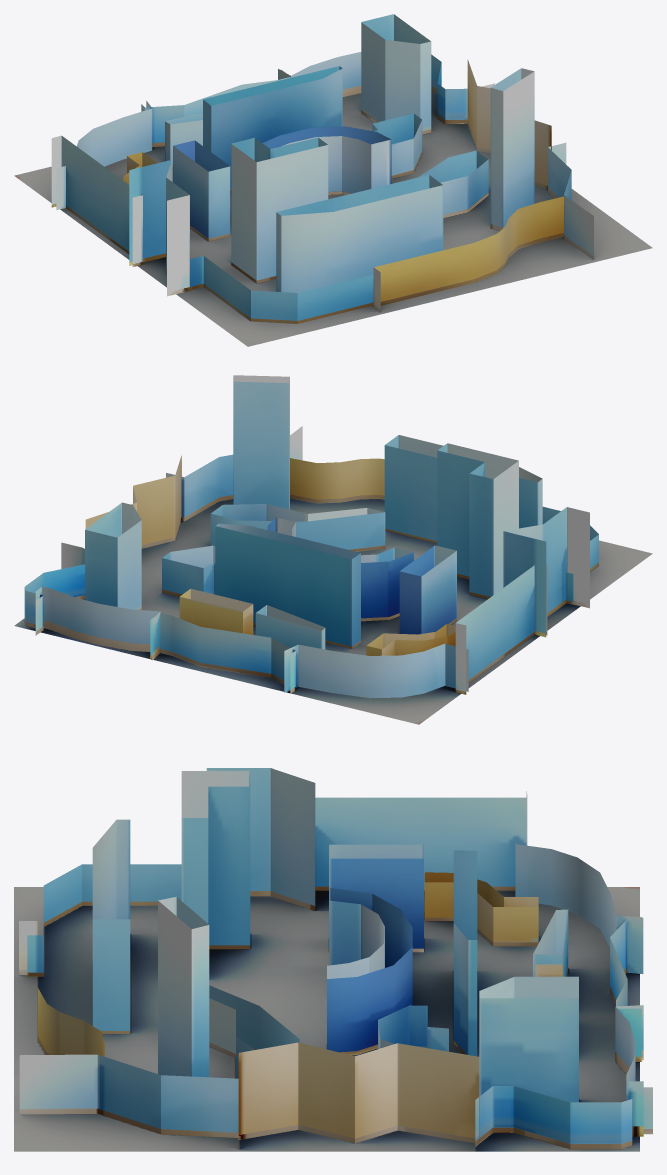
Rendered from city_background.fbx.
3 renders of one model, top to bottom at view 1: azimuth 30°, elevation 25°; view 2: azimuth 150°, elevation 25°; view 3: azimuth 270°, elevation 25°, orthographic. The views are drawn at different scales.
Visible parts, largest first — view 1: polySurface38, polySurface18, polySurface37, polySurface24, polySurface17, polySurface25, polySurface19, polySurface28, polySurface39, polySurface31, polySurface34, polySurface35 (+9 smaller); view 2: polySurface38, polySurface24, polySurface37, polySurface19, polySurface33, polySurface31, polySurface18, polySurface28, polySurface21, polySurface25, polySurface20, polySurface32 (+11 smaller); view 3: polySurface38, polySurface30, polySurface28, polySurface36, polySurface34, polySurface37, polySurface25, polySurface19, polySurface31, polySurface26, polySurface18, polySurface33 (+10 smaller).
Part boxes in pixels (left/top/right/bottom): polySurface38: left=14, top=89, right=652, bottom=346; polySurface18: left=276, top=175, right=443, bottom=292; polySurface37: left=231, top=137, right=328, bottom=283; polySurface24: left=203, top=66, right=342, bottom=190; polySurface17: left=373, top=196, right=563, bottom=312; polySurface25: left=361, top=14, right=431, bottom=134; polySurface19: left=490, top=68, right=534, bottom=230; polySurface28: left=51, top=135, right=142, bottom=266; polySurface39: left=190, top=256, right=373, bottom=323; polySurface31: left=129, top=160, right=189, bottom=296; polySurface34: left=262, top=126, right=391, bottom=194; polySurface35: left=173, top=140, right=230, bottom=241; polySurface38: left=14, top=498, right=652, bottom=724; polySurface24: left=215, top=523, right=360, bottom=648; polySurface37: left=437, top=443, right=518, bottom=599; polySurface19: left=233, top=375, right=289, bottom=509; polySurface33: left=284, top=643, right=468, bottom=698; polySurface31: left=503, top=507, right=589, bottom=637; polySurface18: left=384, top=435, right=542, bottom=543; polySurface28: left=455, top=565, right=547, bottom=694; polySurface21: left=150, top=613, right=295, bottom=693; polySurface25: left=85, top=502, right=141, bottom=609; polySurface20: left=35, top=586, right=160, bottom=660; polySurface32: left=210, top=504, right=385, bottom=551; polySurface38: left=14, top=887, right=639, bottom=1151; polySurface30: left=238, top=1042, right=479, bottom=1143; polySurface28: left=315, top=791, right=527, bottom=890; polySurface36: left=19, top=1054, right=238, bottom=1137; polySurface34: left=327, top=888, right=412, bottom=1055; polySurface37: left=181, top=771, right=250, bottom=949; polySurface25: left=479, top=976, right=578, bottom=1102; polySurface19: left=158, top=896, right=209, bottom=1077; polySurface31: left=206, top=768, right=315, bottom=910; polySurface26: left=475, top=1086, right=652, bottom=1149; polySurface18: left=92, top=819, right=130, bottom=1033; polySurface33: left=515, top=837, right=643, bottom=973.
Bounding box in the file's own units: 148709 × 46730 × 143576.
1 material, 1 textured.
